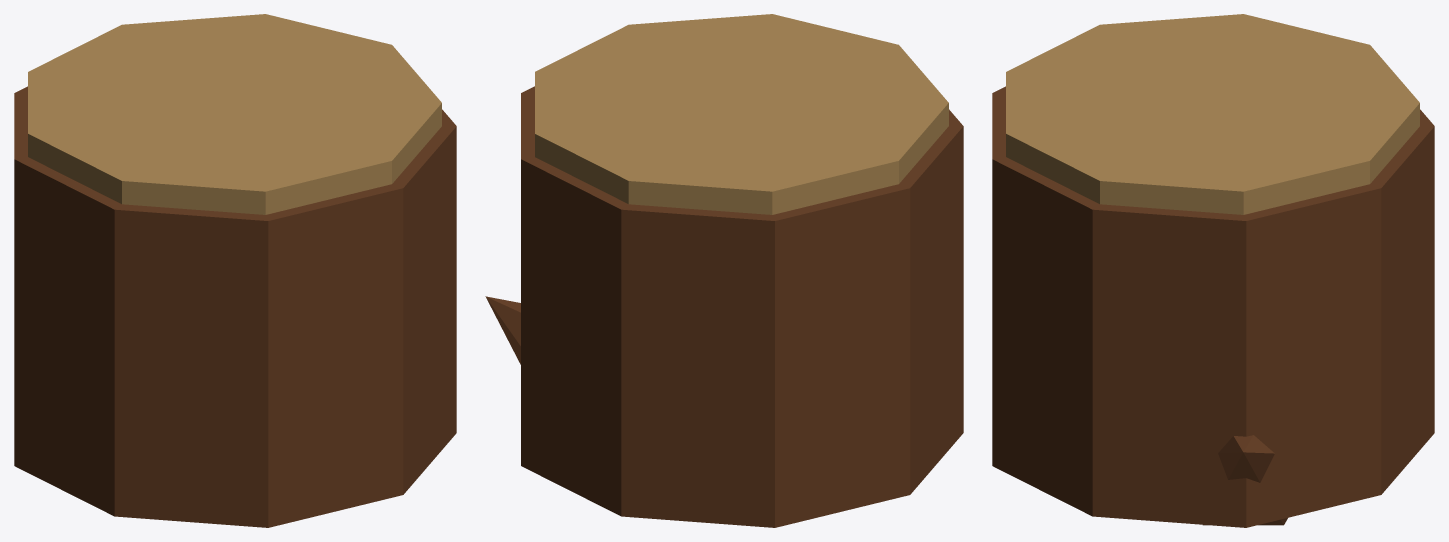
Rendered from stump.glb.
3 views of the same model, side by side, from view 1: azimuth 30°, elevation 25°; view 2: azimuth 150°, elevation 25°; view 3: azimuth 270°, elevation 25° (orthographic).
Visible parts, largest first — view 1: Cone; view 2: Cone; view 3: Cone.
Boxes of the visible parts, left/top/right/bottom form: Cone: left=14, top=14, right=456, bottom=527; Cone: left=485, top=14, right=963, bottom=527; Cone: left=992, top=14, right=1434, bottom=527.
Bounding box in the file's own units: 0.5561 × 0.45 × 0.5001.
